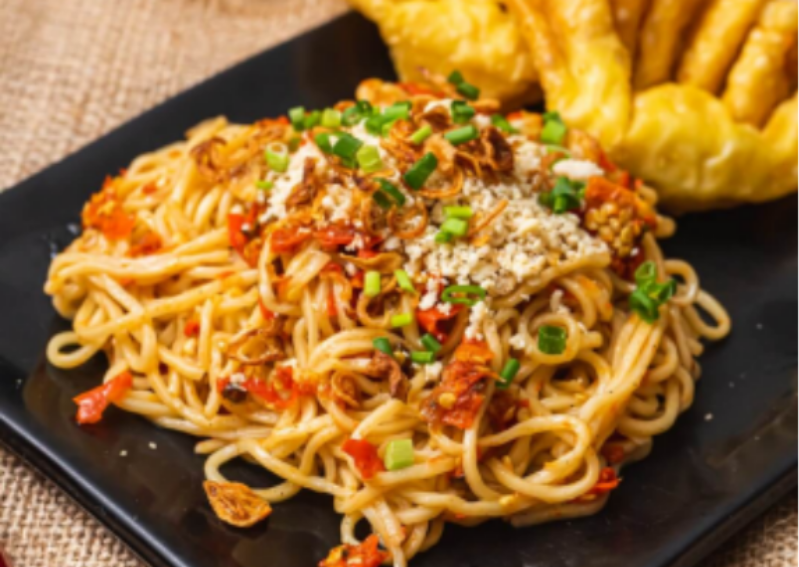Mie: (56, 102, 721, 527)
